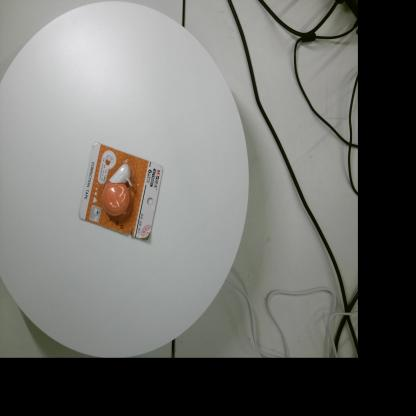Stationery: (79, 142, 163, 240)
